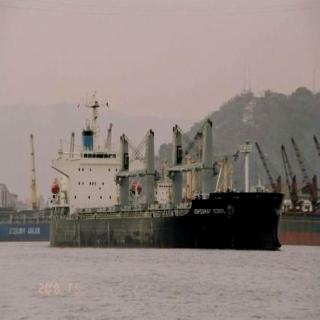Bulk Carrier: (24, 97, 297, 232)
